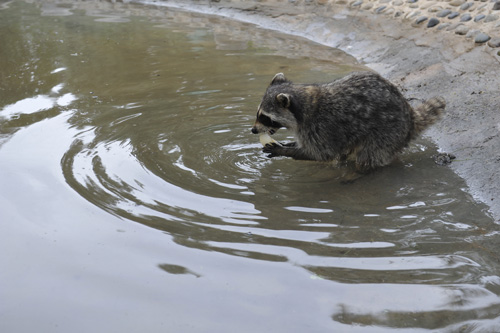raccoon: (249, 69, 452, 188)
